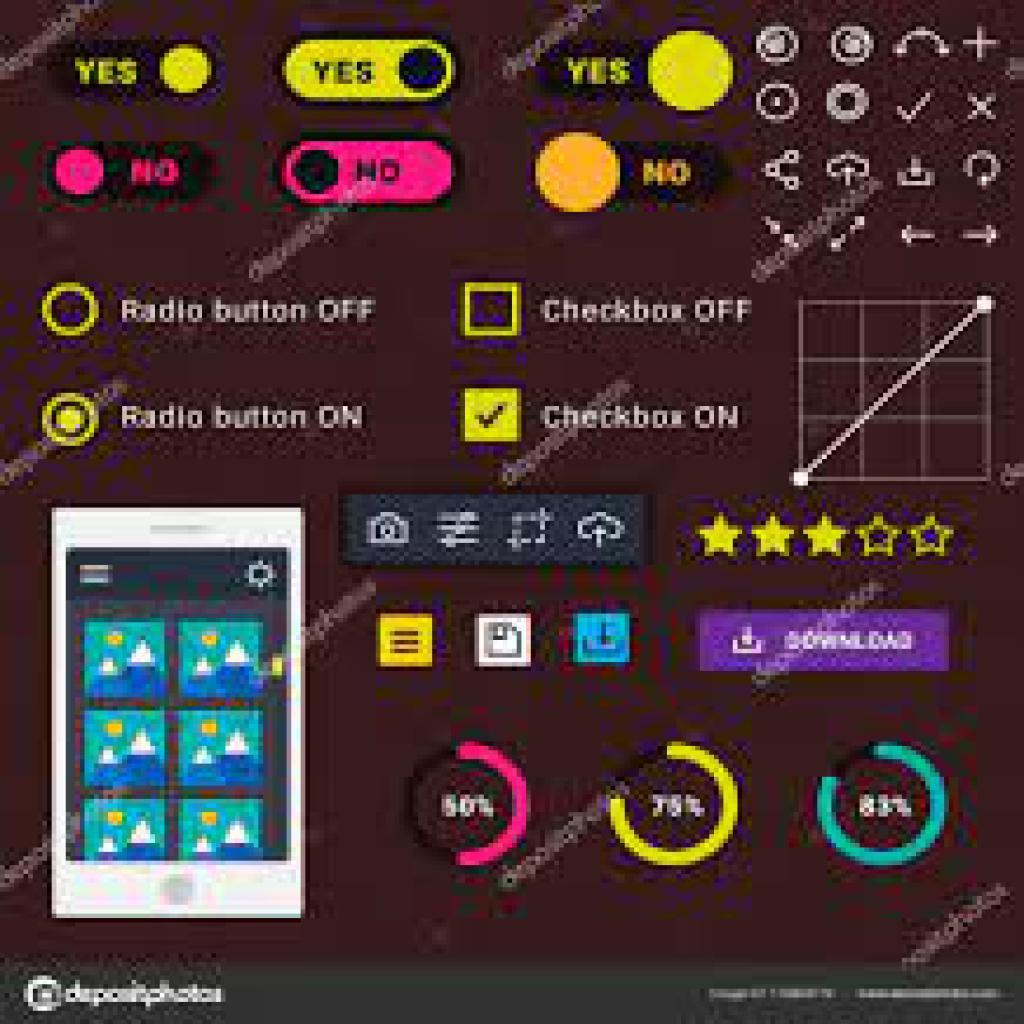button: (701, 610, 948, 675)
checkbox: (461, 387, 525, 447), (460, 283, 527, 338)
icon: (757, 209, 812, 262), (892, 28, 953, 70), (957, 145, 1006, 195), (574, 509, 628, 553), (430, 507, 483, 551), (823, 145, 873, 191), (952, 217, 1010, 256), (892, 151, 941, 197), (507, 506, 552, 555), (364, 509, 415, 551), (894, 88, 945, 128), (483, 620, 527, 664), (764, 147, 802, 195), (385, 621, 428, 663), (963, 83, 1003, 128), (830, 209, 868, 256), (583, 622, 631, 658), (894, 220, 938, 256), (964, 25, 1002, 63)
label: (116, 401, 370, 438), (538, 294, 759, 333), (538, 398, 749, 438), (120, 297, 378, 329)
radio: (41, 281, 105, 340), (40, 390, 101, 449)
switch: (541, 30, 736, 116), (538, 131, 732, 214), (277, 29, 461, 114), (49, 138, 223, 216), (279, 134, 461, 204), (55, 44, 217, 108)
